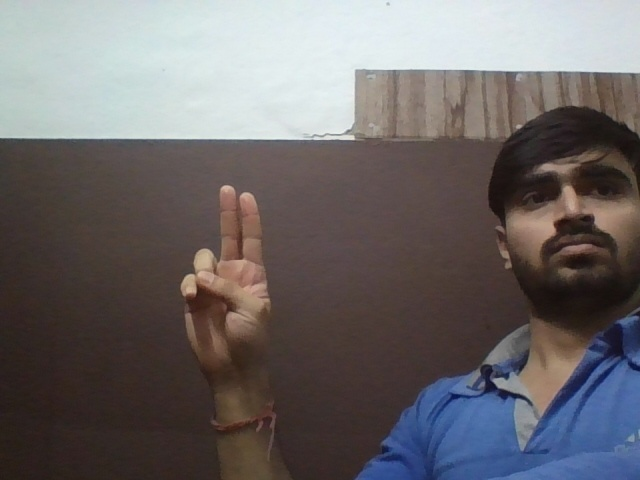U: (174, 179, 287, 384)
